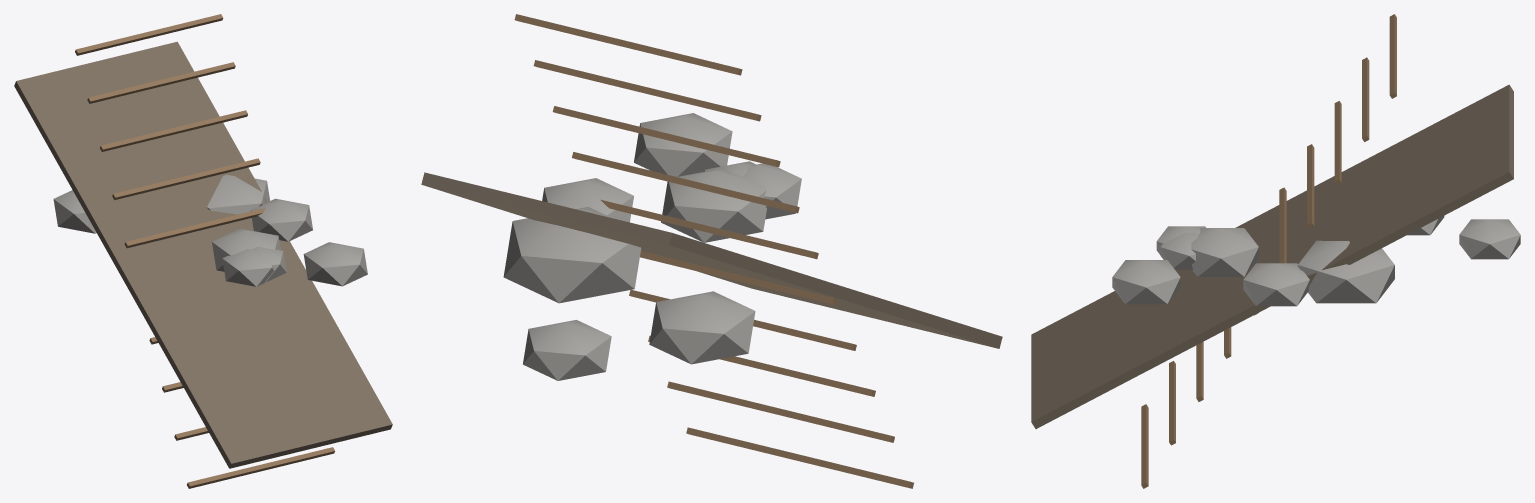
Rendered from ZR_PlankRamp.fbx.
The picture shows the model from 3 angles, left to right: view 1: azimuth 30°, elevation 25°; view 2: azimuth 150°, elevation 25°; view 3: azimuth 270°, elevation 25°; orthographic projection. The views are drawn at different scales.
Parts seen in each view (by area): view 1: ZR_PlankRamp; view 2: ZR_PlankRamp; view 3: ZR_PlankRamp.
Part boxes in pixels (x1,y1,x2,y2): ZR_PlankRamp: [14, 14, 392, 488]; ZR_PlankRamp: [421, 14, 1002, 488]; ZR_PlankRamp: [1031, 14, 1520, 488].
Size of the model in its own units: 2.14 by 3.8 by 4.26.
